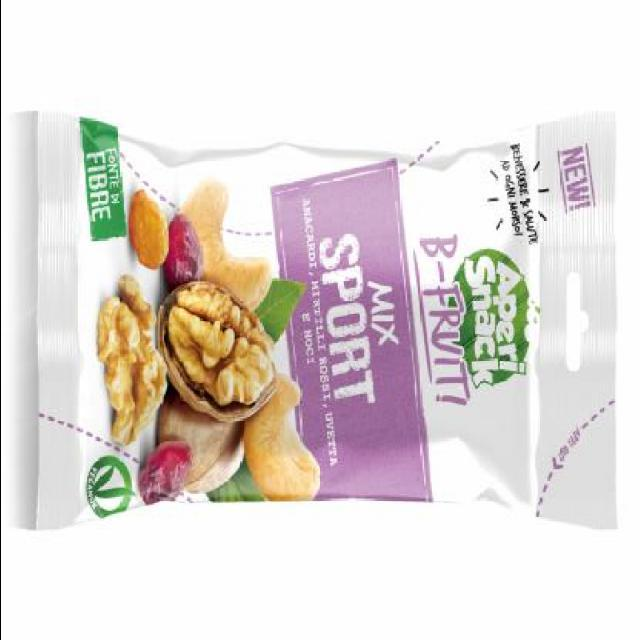Frutta secca: (164, 282, 270, 410), (100, 278, 168, 440), (238, 368, 318, 499), (126, 186, 166, 282)
